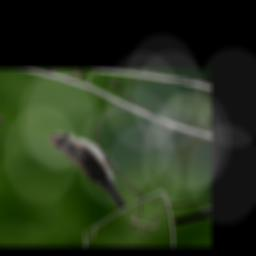Swallow: (21, 128, 156, 212)
